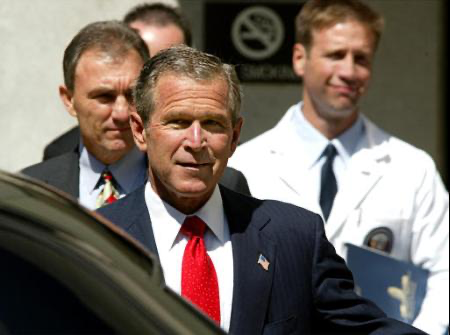Face: (150, 77, 230, 200), (306, 20, 375, 116), (80, 62, 141, 156)
